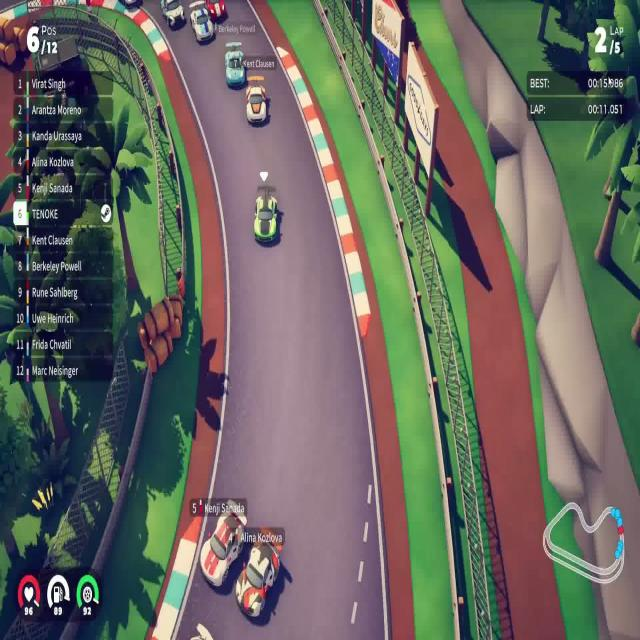car: (234, 540, 280, 619), (200, 511, 246, 588), (254, 183, 280, 246), (224, 41, 246, 89), (245, 83, 267, 125)
